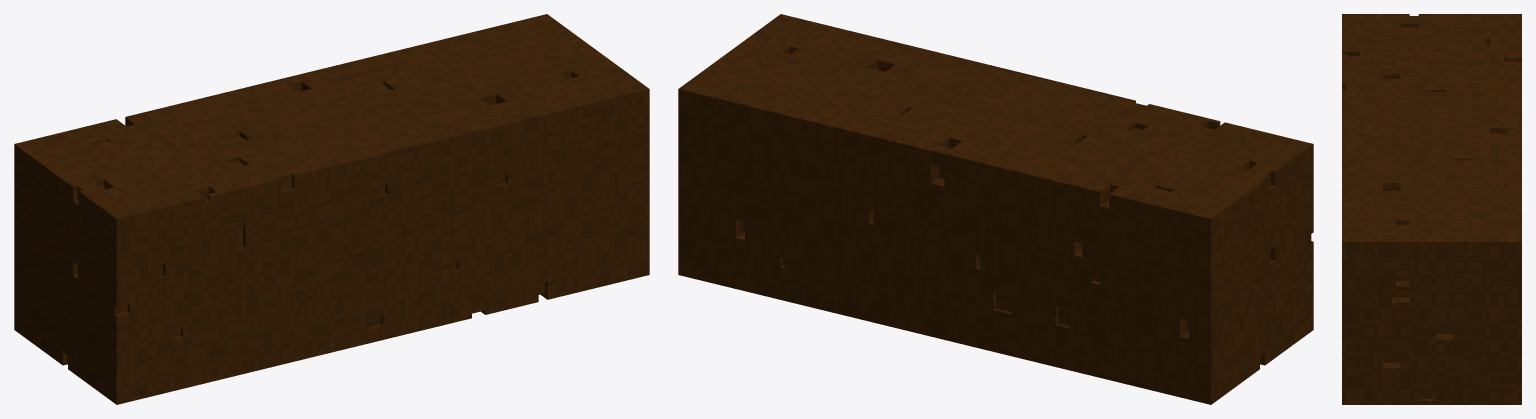
The model's file is LargeRocks-1-Rock3_LOD1.obj.
3 views of the same model, side by side, from view 1: azimuth 30°, elevation 25°; view 2: azimuth 150°, elevation 25°; view 3: azimuth 270°, elevation 25° (orthographic). The views are drawn at different scales.
Parts seen in each view (by area): view 1: Rock3_LOD1; view 2: Rock3_LOD1; view 3: Rock3_LOD1.
Part boxes in pixels (bbox=[...]): Rock3_LOD1: bbox=[14, 14, 649, 404]; Rock3_LOD1: bbox=[678, 14, 1313, 404]; Rock3_LOD1: bbox=[1342, 14, 1521, 404].
Size of the model in its own units: 12 by 4 by 4.
1 material, 1 textured.
